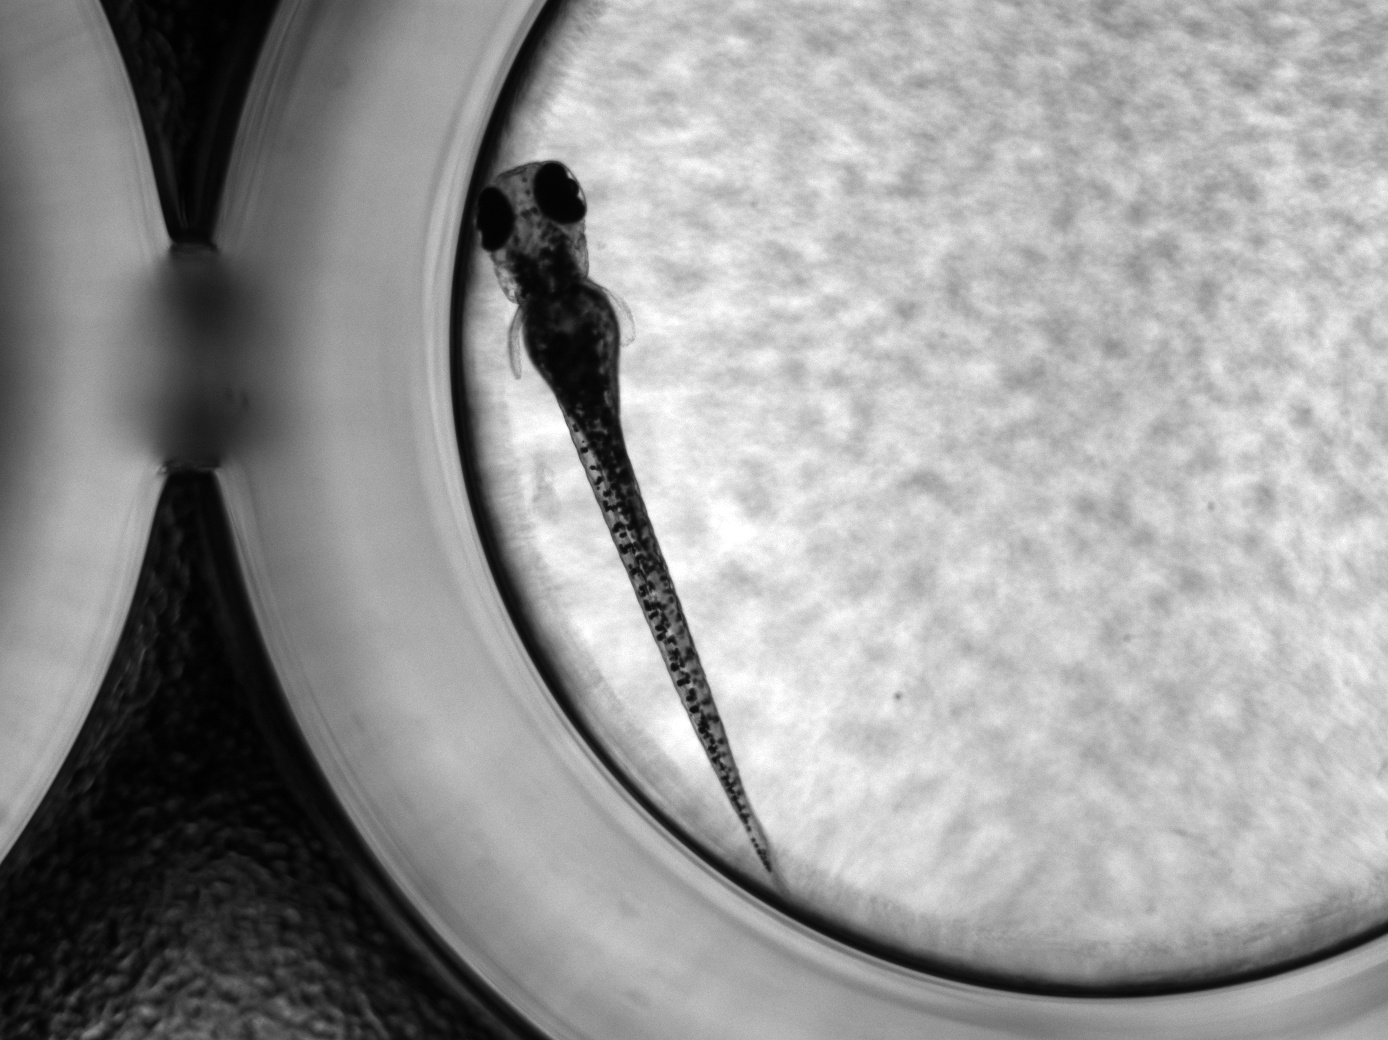embryo: (472, 161, 788, 903)
eye: (532, 162, 588, 224), (474, 186, 515, 252)
yolksac: (523, 282, 619, 382)
